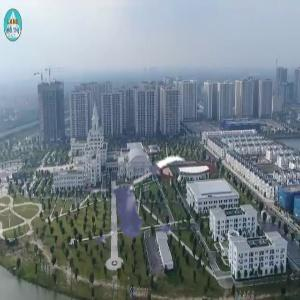drone: (71, 142, 214, 285)
